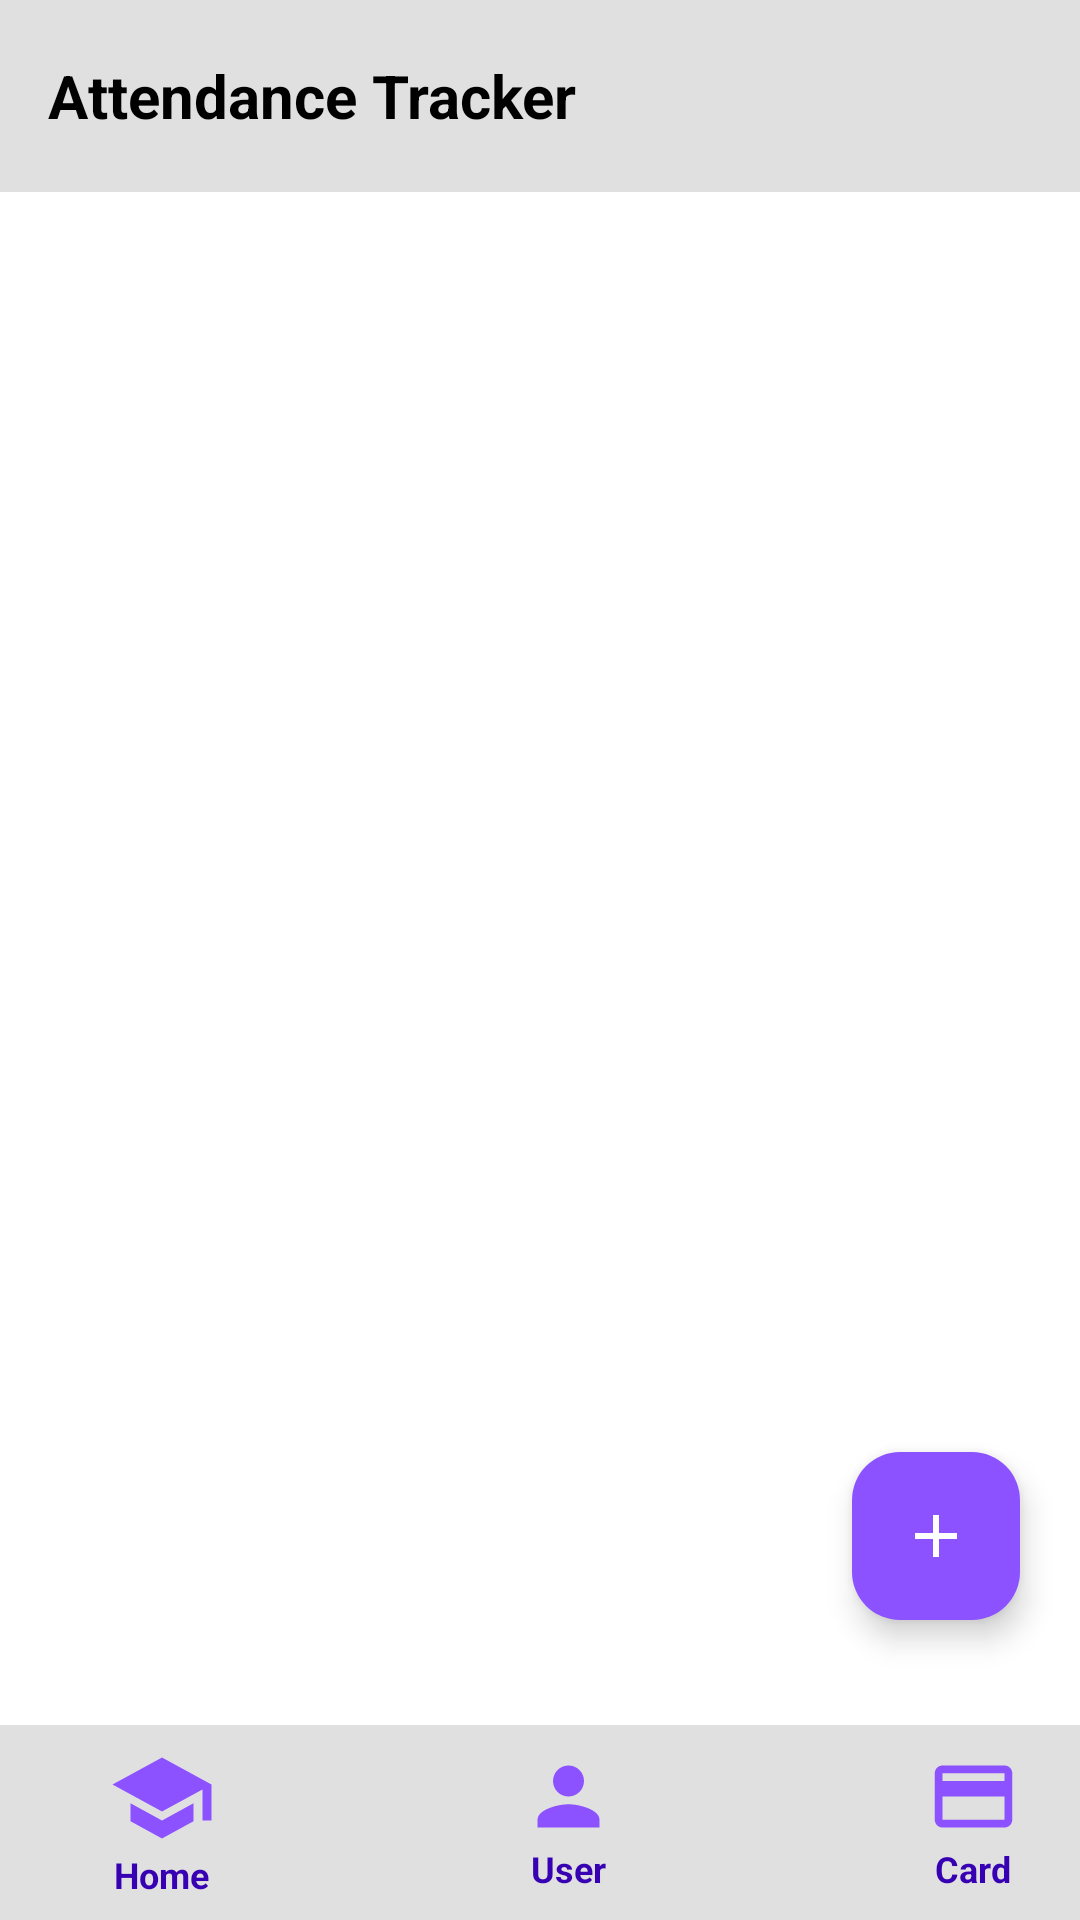

Named icons in this screenshot (1080 x 1920) and their centers, (x=x, y=y):
Add: (x=936, y=1536)
